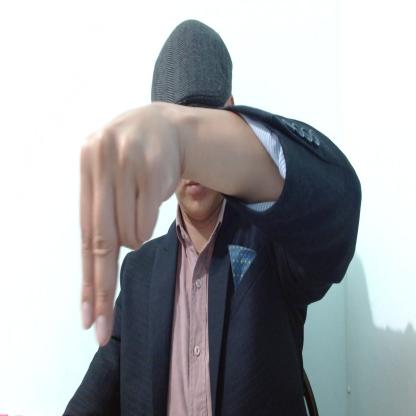N: (78, 100, 183, 348)
